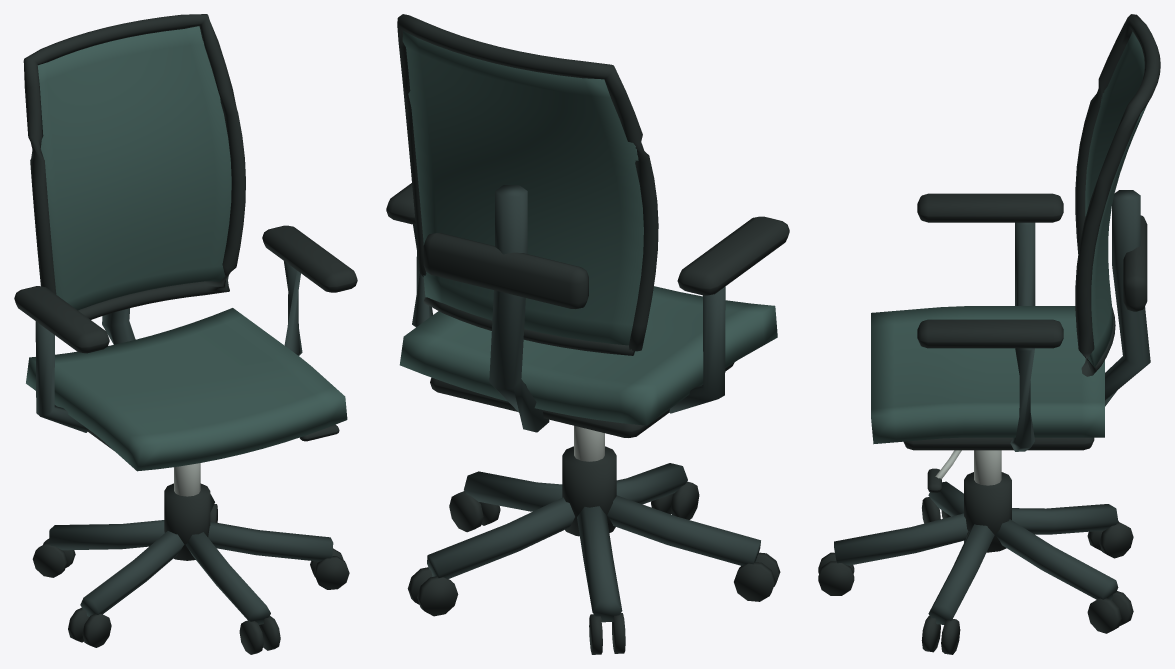
File: chaise-v01.glb
3 renders of one model, left to right at view 1: azimuth 30°, elevation 25°; view 2: azimuth 150°, elevation 25°; view 3: azimuth 270°, elevation 25°, orthographic. The views are drawn at different scales.
Visible parts, largest first — view 1: Dossier ergonomique, Assise creusée, Cadre continu du dossier, Manchette accoudoir, Manchette accoudoir.001, Branche moulée.001, Branche moulée.004, Branche moulée.003, Branche moulée, Carter vérin, Accoudoir réglable, Accoudoir réglable.001 (+7 smaller); view 2: Dossier ergonomique, Assise creusée, Cadre continu du dossier, Appui lombaire, Support lombaire, Branche moulée.004, Branche moulée.002, Manchette accoudoir, Branche moulée.003, Carter vérin, Accoudoir réglable, Branche moulée.001 (+9 smaller); view 3: Assise creusée, Cadre continu du dossier, Dossier ergonomique, Support lombaire, Manchette accoudoir.001, Manchette accoudoir, Branche moulée, Branche moulée.002, Branche moulée.003, Branche moulée.001, Carter vérin, Coque sous assise (+10 smaller).
Part boxes in pixels (<box>): Dossier ergonomique: <box>37,26,231,310</box>; Assise creusée: <box>26,308,347,471</box>; Cadre continu du dossier: <box>23,14,245,319</box>; Manchette accoudoir: <box>14,286,109,353</box>; Manchette accoudoir.001: <box>262,225,357,292</box>; Branche moulée.001: <box>208,521,333,561</box>; Branche moulée.004: <box>80,531,184,616</box>; Branche moulée.003: <box>49,520,164,550</box>; Branche moulée: <box>185,532,270,624</box>; Carter vérin: <box>164,483,210,560</box>; Accoudoir réglable: <box>35,321,88,432</box>; Accoudoir réglable.001: <box>284,261,302,355</box>; Dossier ergonomique: <box>402,30,643,345</box>; Assise creusée: <box>399,286,777,425</box>; Cadre continu du dossier: <box>397,14,658,355</box>; Appui lombaire: <box>423,233,588,309</box>; Support lombaire: <box>489,185,549,432</box>; Branche moulée.004: <box>607,495,760,565</box>; Branche moulée.002: <box>427,497,574,578</box>; Manchette accoudoir: <box>677,216,789,295</box>; Branche moulée.003: <box>577,506,622,622</box>; Carter vérin: <box>562,446,616,536</box>; Accoudoir réglable: <box>669,286,725,413</box>; Branche moulée.001: <box>464,471,562,511</box>; Assise creusée: <box>871,306,1104,444</box>; Cadre continu du dossier: <box>1075,14,1160,376</box>; Dossier ergonomique: <box>1085,31,1147,367</box>; Support lombaire: <box>1105,190,1150,406</box>; Manchette accoudoir.001: <box>917,319,1063,348</box>; Manchette accoudoir: <box>917,193,1063,222</box>; Branche moulée: <box>834,513,968,565</box>; Branche moulée.002: <box>995,519,1118,599</box>; Branche moulée.003: <box>1012,504,1118,534</box>; Branche moulée.001: <box>928,524,994,624</box>; Carter vérin: <box>964,472,1011,552</box>; Coque sous assise: <box>903,437,1094,450</box>.
Size of the model in its own units: 0.635 by 1.1 by 0.644.
